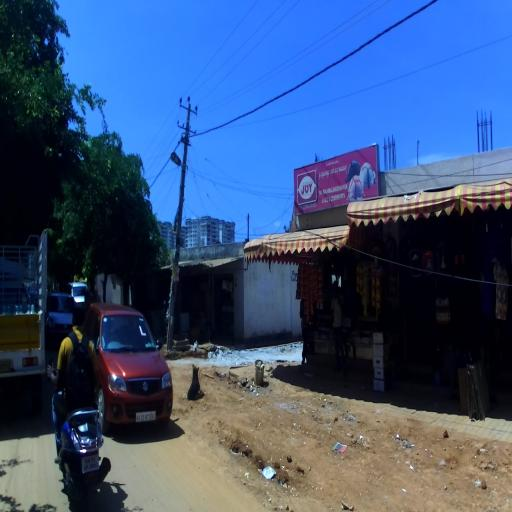street_light_0: (170, 152, 186, 206)
